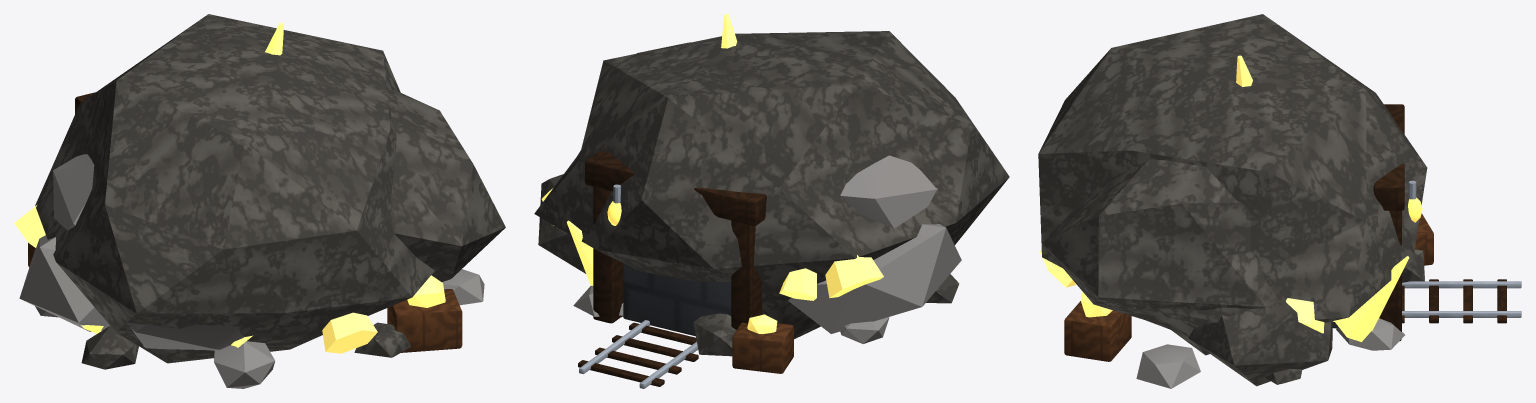
The model's file is resource_gold_mine.glb.
3 views of the same model, side by side, from view 1: azimuth 30°, elevation 25°; view 2: azimuth 150°, elevation 25°; view 3: azimuth 270°, elevation 25° (orthographic). The views are drawn at different scales.
Visible parts, largest first — view 1: resource_gold_mine; view 2: resource_gold_mine; view 3: resource_gold_mine.
Part boxes in pixels (x1,y1,x2,y2): resource_gold_mine: (14,14,505,388); resource_gold_mine: (534,14,1009,388); resource_gold_mine: (1038,14,1521,388).
Size of the model in its own units: 4.87 by 3.19 by 4.96.
Materials: 8 (5 with a texture image).
